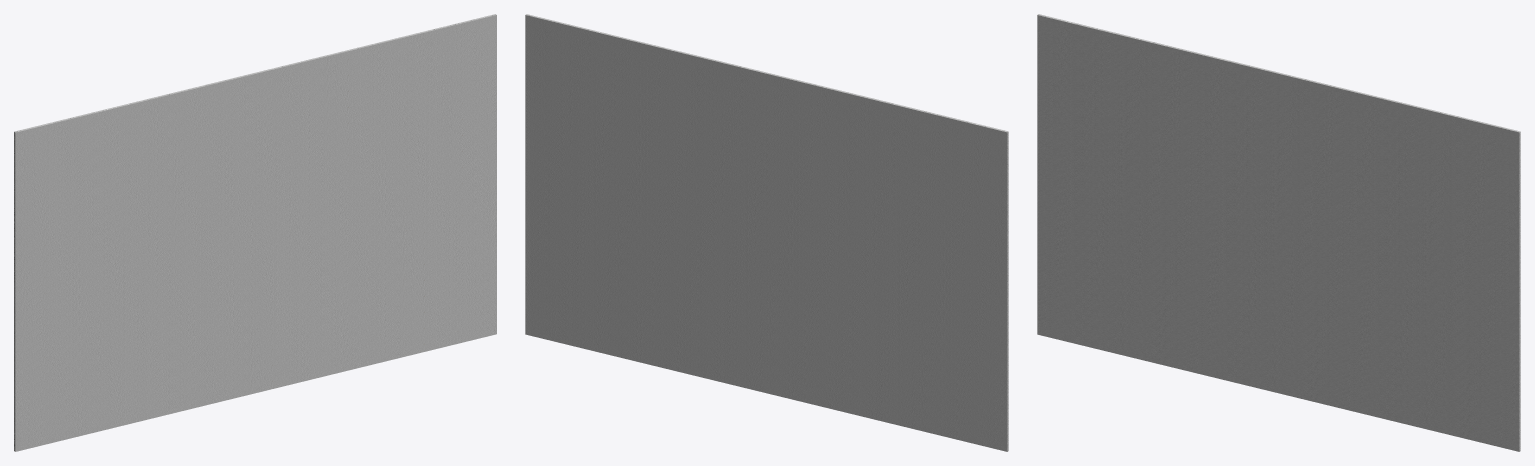
File: wall5.fbx
3 views of the same model, side by side, from view 1: azimuth 30°, elevation 25°; view 2: azimuth 150°, elevation 25°; view 3: azimuth 330°, elevation 25° (orthographic).
Visible parts, largest first — view 1: polySurface56; view 2: polySurface56; view 3: polySurface56.
Boxes of the visible parts, <box> form: polySurface56: <box>14,14,496,451</box>; polySurface56: <box>525,14,1008,451</box>; polySurface56: <box>1037,14,1520,451</box>.
Bounding box in the file's own units: 4.74 × 3 × 0.0261.
1 material, 1 textured.
